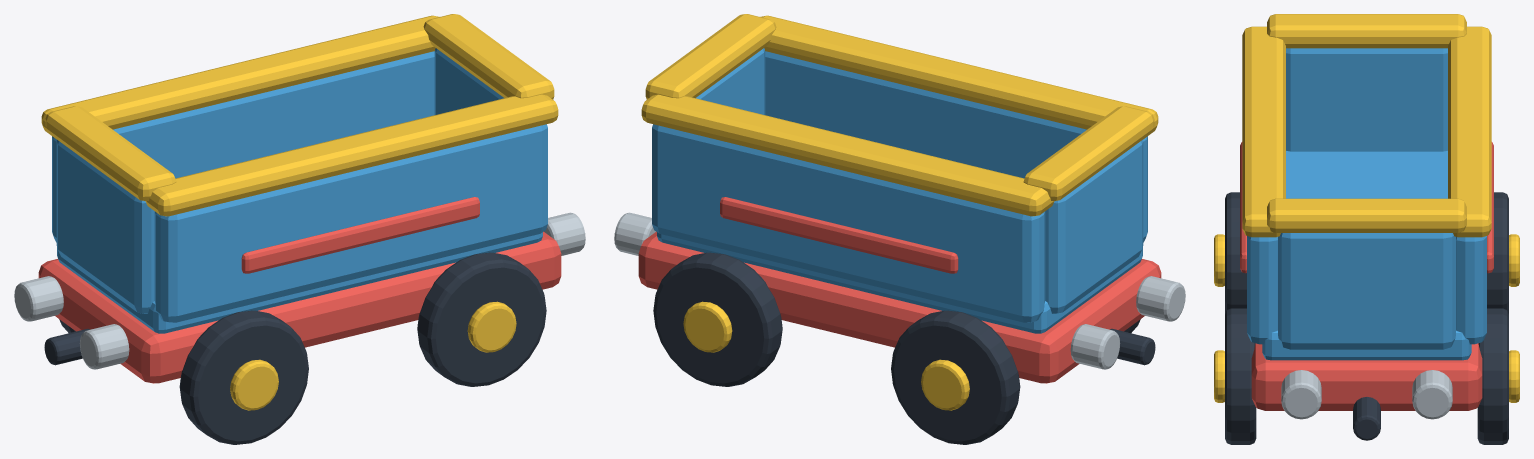
The model's file is cargo-car.glb.
The picture shows the model from 3 angles, left to right: view 1: azimuth 30°, elevation 25°; view 2: azimuth 150°, elevation 25°; view 3: azimuth 270°, elevation 25°; orthographic projection.
Visible parts, largest first — view 1: CMP_CargoCar_Side_Right, CMP_CargoCar_Side_Left, CMP_CargoCar_Chassis, CMP_CargoCar_Rail_Right, CMP_CargoCar_Rail_Left, CMP_CargoCar_Wheel_1_Right, CMP_CargoCar_Wheel_2_Right, CMP_CargoCar_End_Front, CMP_CargoCar_EndRail_Front, CMP_CargoCar_Stripe_Right, CMP_CargoCar_EndRail_Rear, CMP_CargoCar_Floor (+7 smaller); view 2: CMP_CargoCar_Side_Left, CMP_CargoCar_Side_Right, CMP_CargoCar_Chassis, CMP_CargoCar_Rail_Left, CMP_CargoCar_Rail_Right, CMP_CargoCar_Wheel_1_Left, CMP_CargoCar_Wheel_2_Left, CMP_CargoCar_End_Front, CMP_CargoCar_EndRail_Front, CMP_CargoCar_Stripe_Left, CMP_CargoCar_EndRail_Rear, CMP_CargoCar_Floor (+7 smaller); view 3: CMP_CargoCar_End_Rear, CMP_CargoCar_End_Front, CMP_CargoCar_Floor, CMP_CargoCar_Chassis, CMP_CargoCar_Rail_Left, CMP_CargoCar_Rail_Right, CMP_CargoCar_EndRail_Rear, CMP_CargoCar_EndRail_Front, CMP_CargoCar_Wheel_2_Left, CMP_CargoCar_Wheel_2_Right, CMP_CargoCar_Side_Left, CMP_CargoCar_Side_Right (+11 smaller).
Part boxes in pixels (x1,y1,x2,y2): CMP_CargoCar_Side_Right: (154,124,547,322); CMP_CargoCar_Side_Left: (52,51,434,242); CMP_CargoCar_Chassis: (38,231,561,383); CMP_CargoCar_Rail_Right: (145,94,558,216); CMP_CargoCar_Rail_Left: (41,15,439,138); CMP_CargoCar_Wheel_1_Right: (179,310,308,444); CMP_CargoCar_Wheel_2_Right: (417,252,546,386); CMP_CargoCar_End_Front: (56,140,154,313); CMP_CargoCar_EndRail_Front: (45,106,176,201); CMP_CargoCar_Stripe_Right: (241,197,479,273); CMP_CargoCar_EndRail_Rear: (423,14,554,99); CMP_CargoCar_Floor: (57,232,542,333); CMP_CargoCar_Side_Left: (652,124,1045,322); CMP_CargoCar_Side_Right: (765,51,1147,242); CMP_CargoCar_Chassis: (638,231,1161,383); CMP_CargoCar_Rail_Left: (641,94,1054,216); CMP_CargoCar_Rail_Right: (760,15,1158,138); CMP_CargoCar_Wheel_1_Left: (891,310,1020,444); CMP_CargoCar_Wheel_2_Left: (653,252,782,386); CMP_CargoCar_End_Front: (1045,140,1143,313); CMP_CargoCar_EndRail_Front: (1023,106,1154,201); CMP_CargoCar_Stripe_Left: (720,197,958,273); CMP_CargoCar_EndRail_Rear: (645,14,776,99); CMP_CargoCar_Floor: (657,232,1142,333); CMP_CargoCar_End_Rear: (1278,233,1455,349); CMP_CargoCar_End_Front: (1286,48,1447,151); CMP_CargoCar_Floor: (1262,151,1471,360); CMP_CargoCar_Chassis: (1251,343,1482,410); CMP_CargoCar_Rail_Left: (1448,26,1491,237); CMP_CargoCar_Rail_Right: (1242,26,1285,237); CMP_CargoCar_EndRail_Rear: (1267,198,1466,232); CMP_CargoCar_EndRail_Front: (1267,14,1466,48); CMP_CargoCar_Wheel_2_Left: (1477,308,1508,444); CMP_CargoCar_Wheel_2_Right: (1225,308,1256,444); CMP_CargoCar_Side_Left: (1456,236,1486,344); CMP_CargoCar_Side_Right: (1247,236,1277,344).
Bounding box in the file's own units: 3.7 × 1.9 × 1.96.
